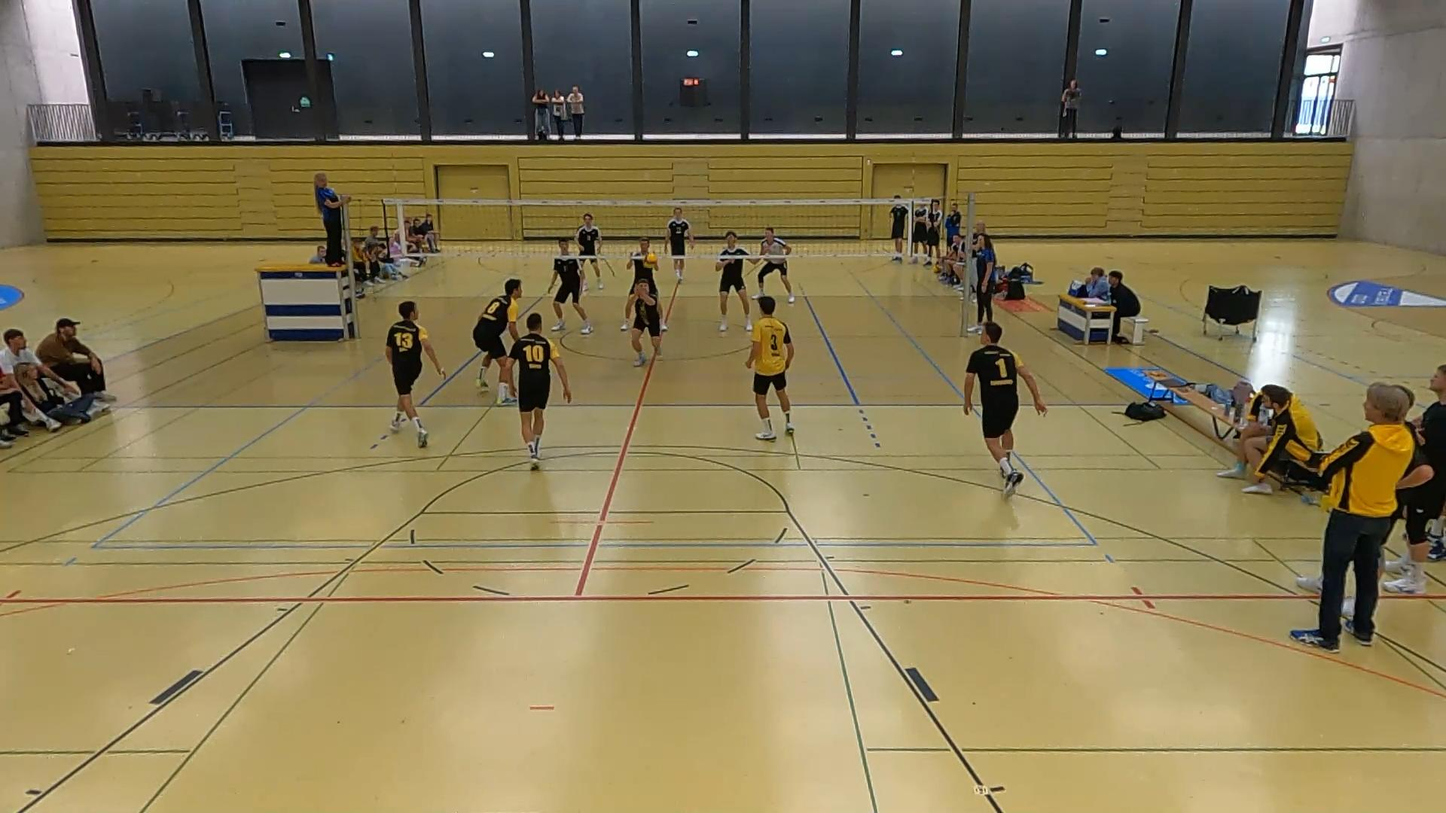difesa: (620, 272, 671, 374)
